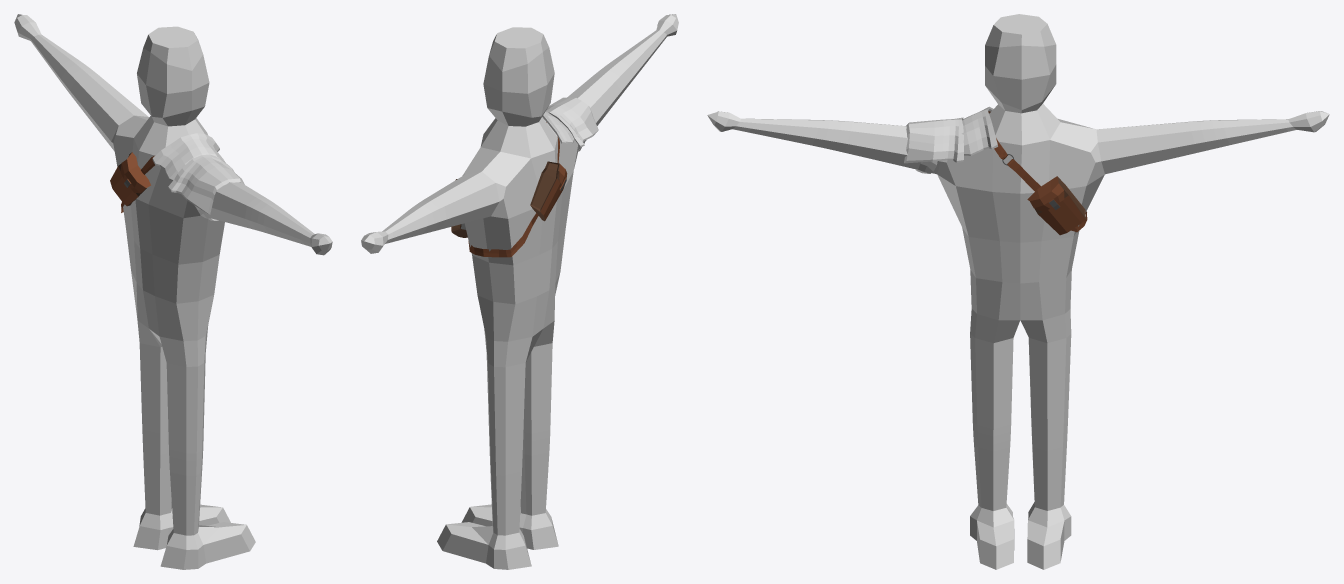
Rendered from Pawn.fbx.
3 views of the same model, side by side, from view 1: azimuth 30°, elevation 25°; view 2: azimuth 150°, elevation 25°; view 3: azimuth 270°, elevation 25° (orthographic).
Parts seen in each view (by area): view 1: 큐브, Plane, Plane.001, bag.003; view 2: 큐브, Plane, bag.003, bag.002, Plane.001; view 3: 큐브, Plane, bag.001, Plane.001.
Boxes of the visible parts, x1,y1,x2,y2 form: 큐브: (14, 14, 332, 569); Plane: (168, 154, 244, 214); Plane.001: (152, 133, 225, 181); bag.003: (110, 152, 150, 206); 큐브: (361, 14, 678, 569); Plane: (545, 97, 598, 147); bag.003: (530, 161, 567, 221); bag.002: (468, 122, 559, 257); Plane.001: (542, 112, 574, 144); 큐브: (707, 14, 1329, 569); Plane: (904, 117, 963, 163); bag.001: (1027, 176, 1085, 235); Plane.001: (954, 106, 997, 155).
Size of the model in its own units: 346 by 1442 by 1592.
